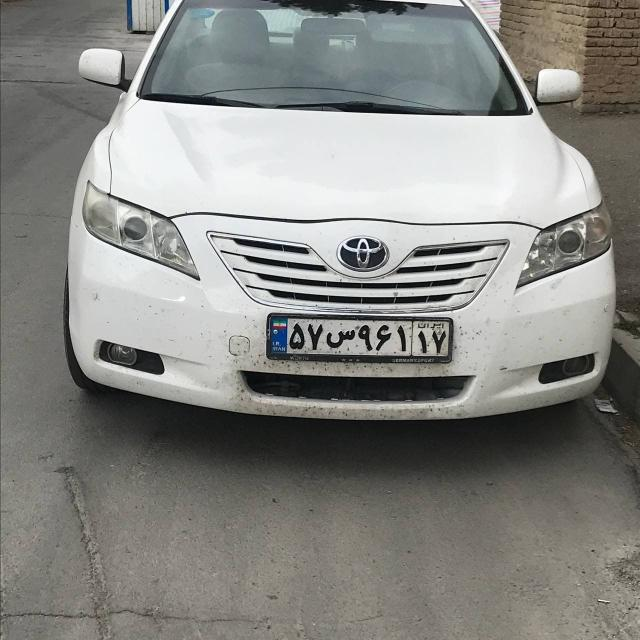Plates: (270, 317, 450, 358)
